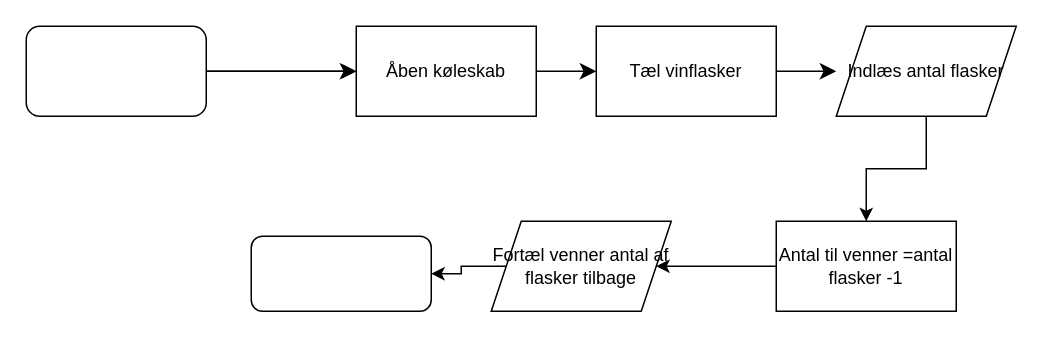
The diagram is 1043 pixels wide and 338 high, and some of its shapes have lost their labels. Each missing label, with the centre of its shape:
slut: point 340,273
start: point 115,70
